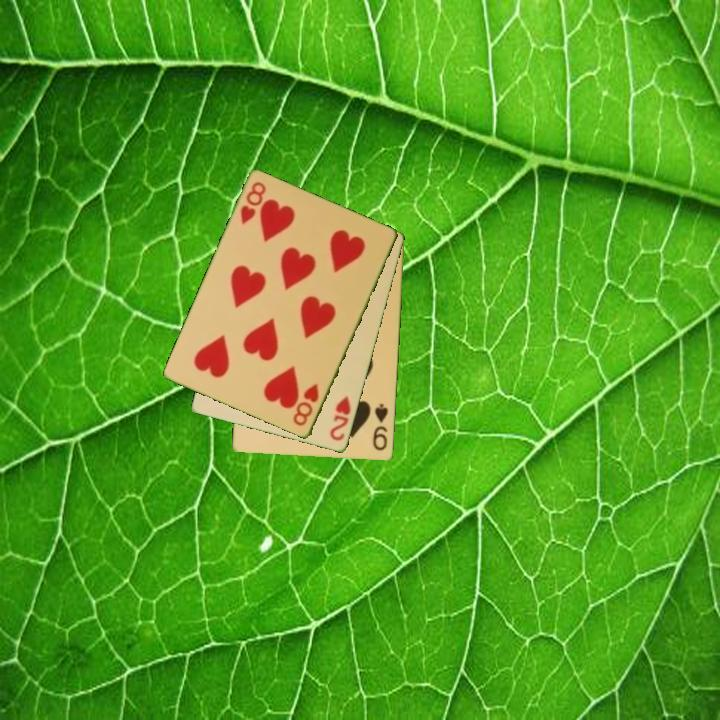2h: (326, 393, 354, 444)
8h: (289, 380, 322, 429), (237, 178, 269, 228)
9s: (369, 400, 391, 453)
